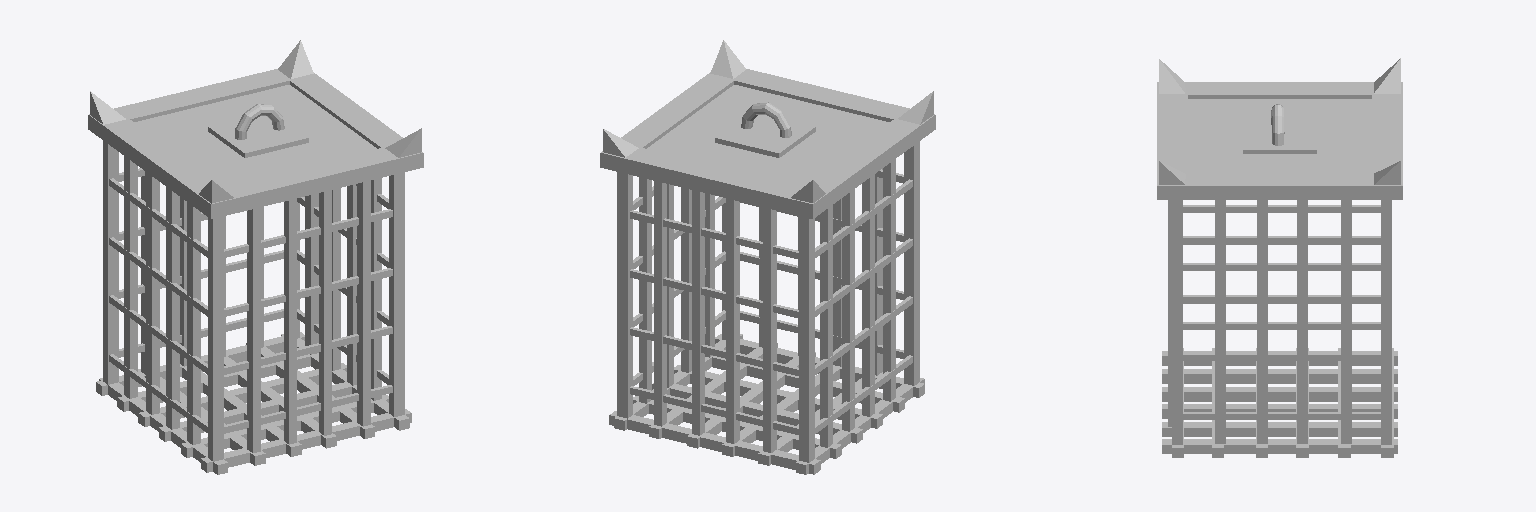
Rendered from Cage.OBJ.
3 views of the same model, side by side, from view 1: azimuth 30°, elevation 25°; view 2: azimuth 150°, elevation 25°; view 3: azimuth 270°, elevation 25° (orthographic).
Visible parts, largest first — view 1: клетка-01; view 2: клетка-01; view 3: клетка-01.
Part boxes in pixels (bbox=[...]): клетка-01: bbox=[88, 40, 423, 474]; клетка-01: bbox=[600, 40, 935, 474]; клетка-01: bbox=[1157, 58, 1402, 457].
Bounding box in the file's own units: 2.34 × 3.2 × 2.34.